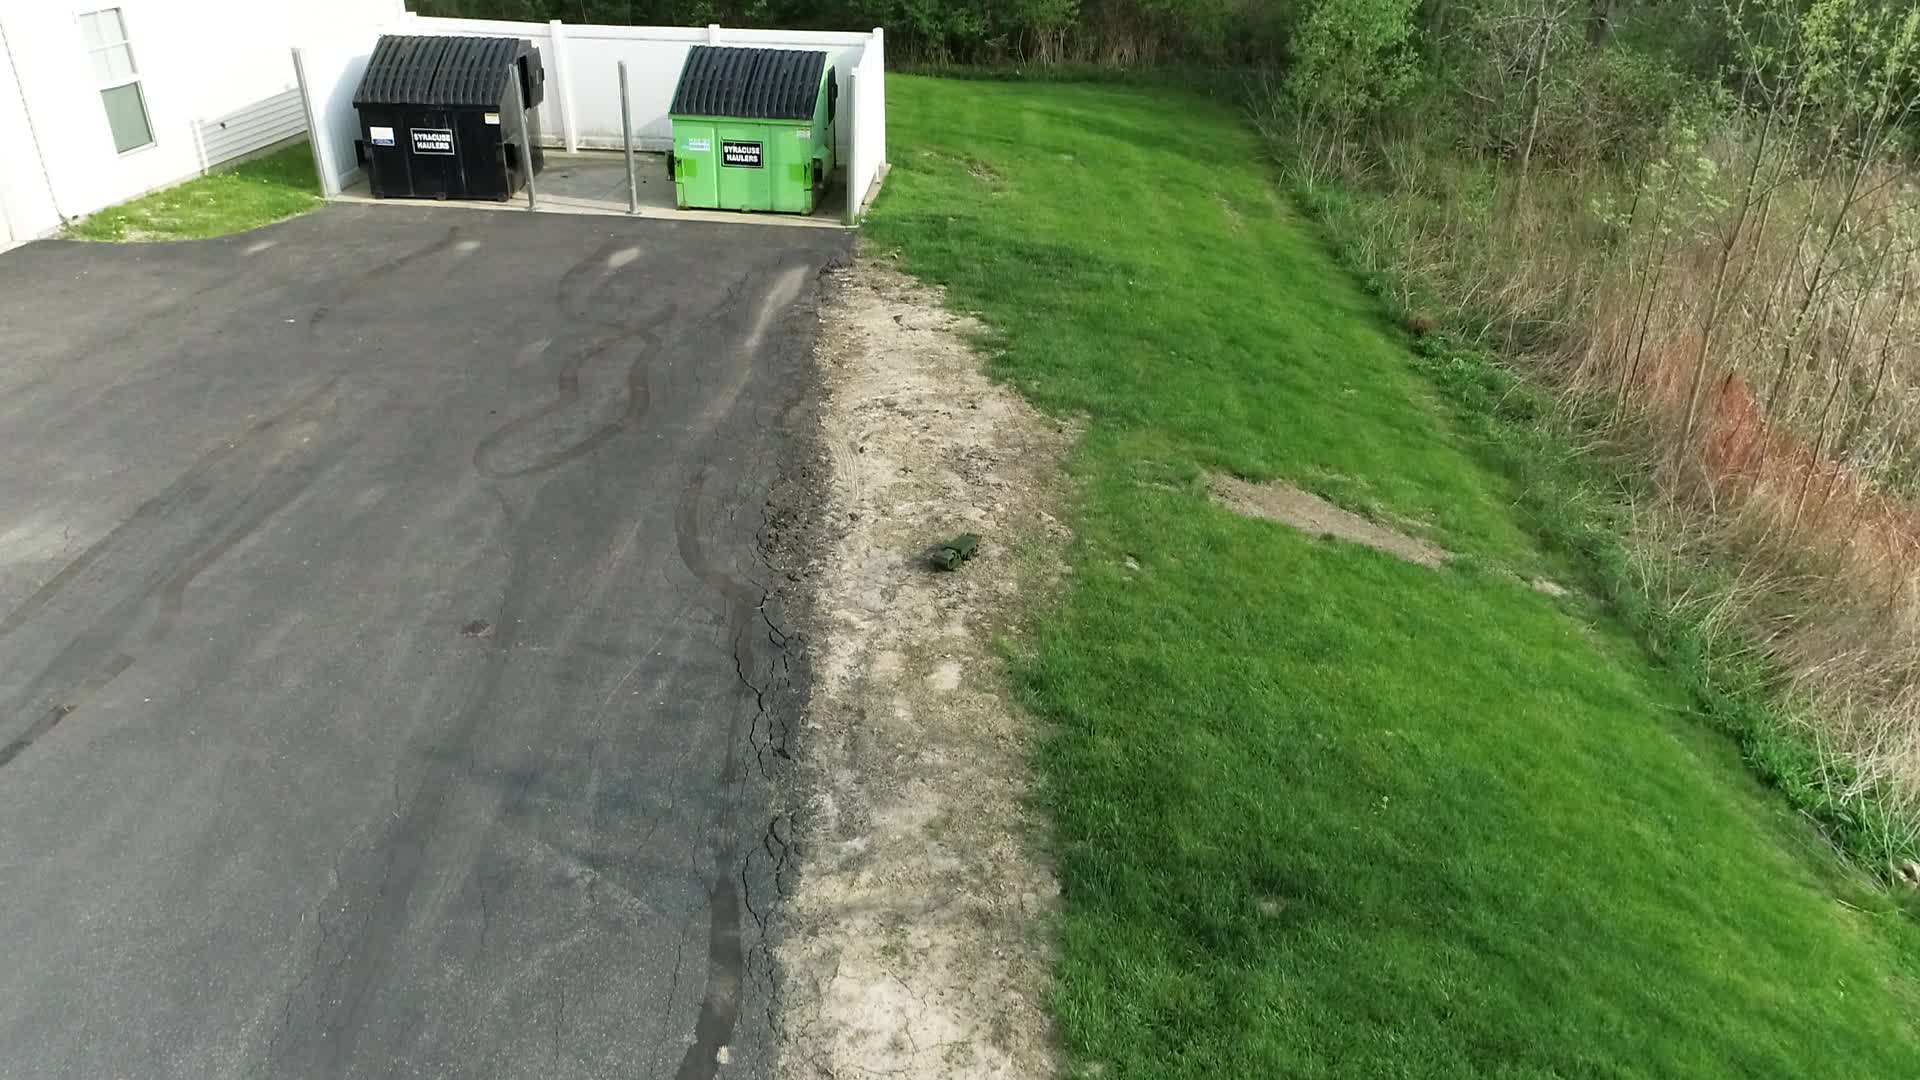transporter9: (928, 529, 986, 574)
